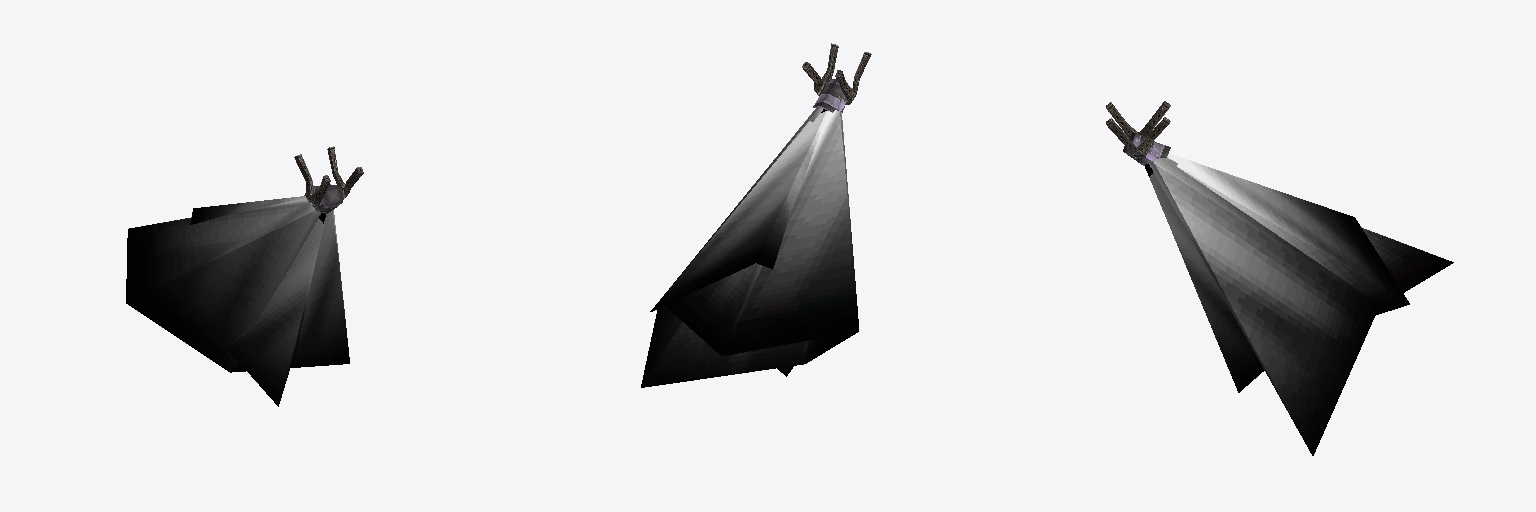
3 views of the same model, side by side, from view 1: azimuth 30°, elevation 25°; view 2: azimuth 150°, elevation 25°; view 3: azimuth 270°, elevation 25° (orthographic).
Visible parts, largest first — view 1: GnomeStructuralSpotLight02; view 2: GnomeStructuralSpotLight02; view 3: GnomeStructuralSpotLight02.
Boxes of the visible parts, x1,y1,x2,y2 form: GnomeStructuralSpotLight02: [126, 146, 363, 406]; GnomeStructuralSpotLight02: [641, 43, 871, 387]; GnomeStructuralSpotLight02: [1106, 101, 1453, 455].
Bounding box in the file's own units: 4.98 × 6.31 × 6.79.
Materials: 2 (2 with a texture image).